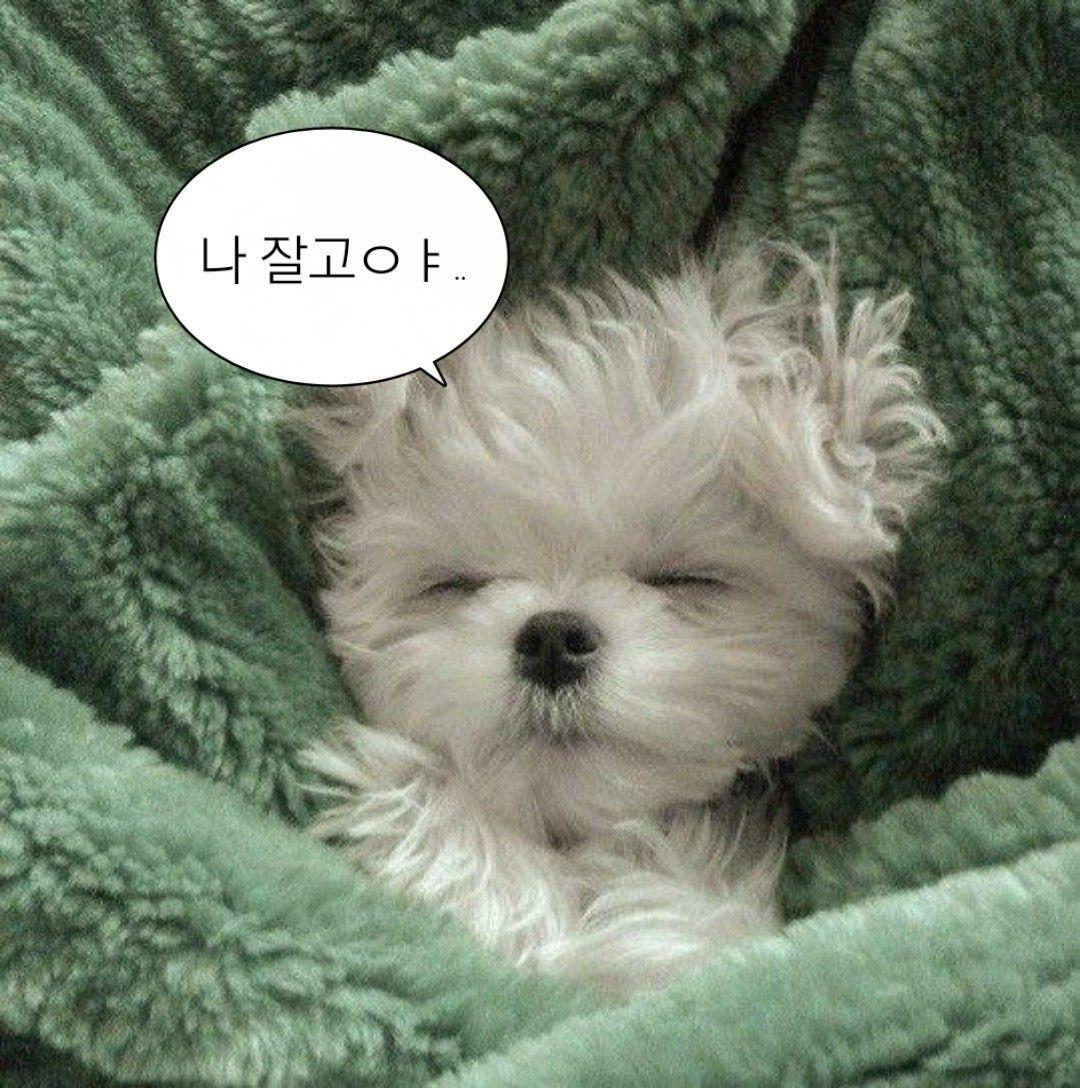dog: (292, 252, 933, 968)
